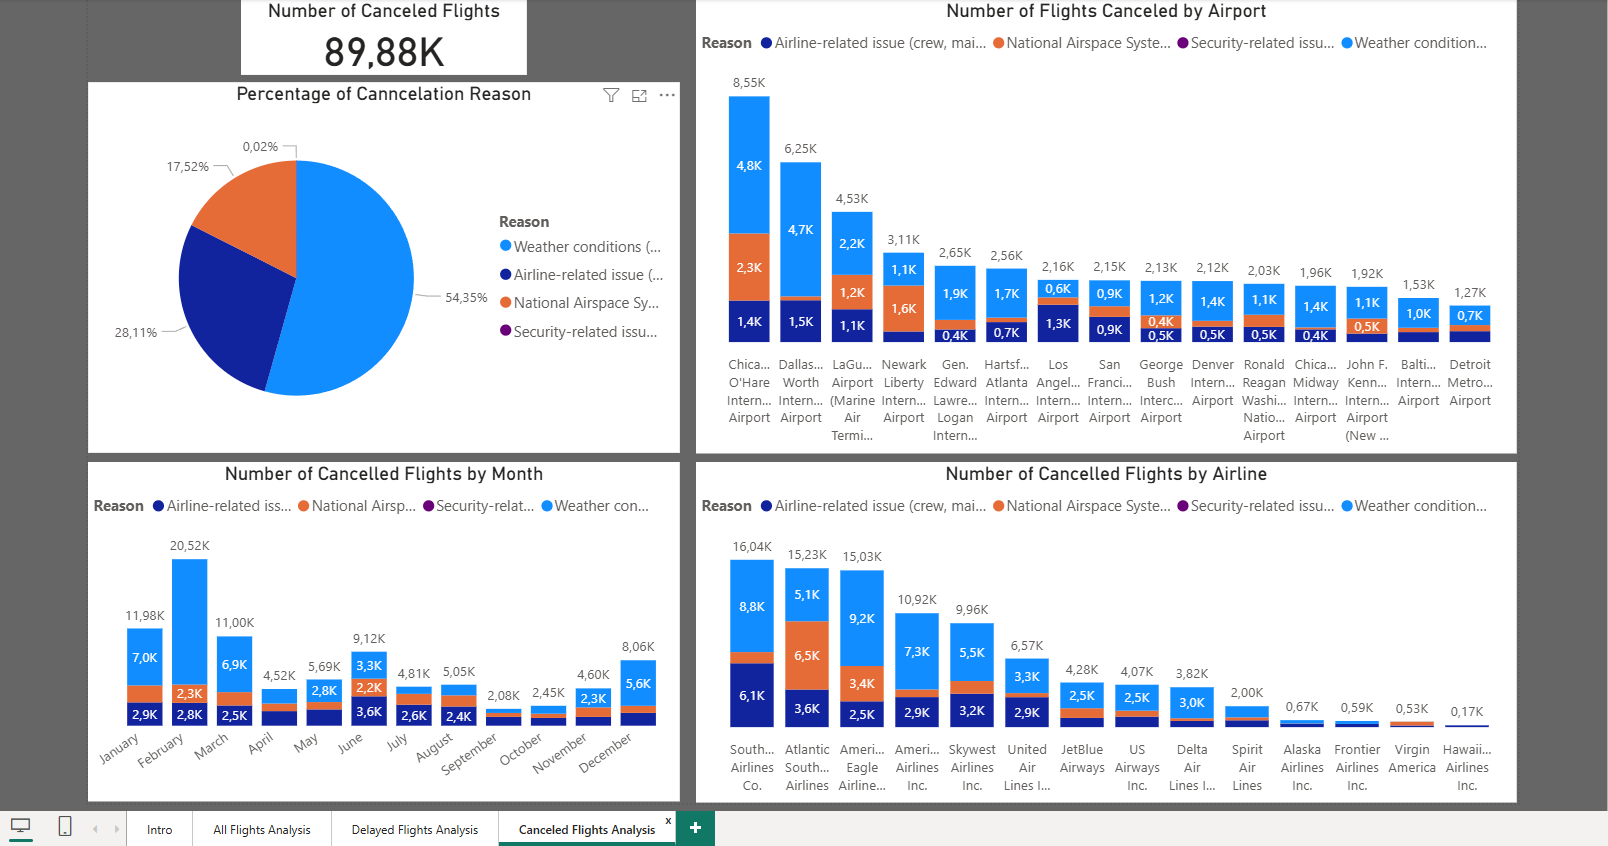

The page's visual inventory and layout, read from the dashboard file:
{"tool":"powerbi","page":{"name":"Canceled Flights Analysis","canvas":[1280,720],"ordinal":3},"visuals":[{"type":"columnChart","title":"Number of Flights Canceled by Airport","fields":{"Y":["CountNonNull(flights.FLIGHT_NUMBER)"],"Category":["airports.AIRPORT"],"Series":["codes_category.description"]},"box":[544.5,0,735.2,406.6],"z":0},{"type":"columnChart","title":"Number of Cancelled Flights by Month","fields":{"Y":["CountNonNull(flights.FLIGHT_NUMBER)"],"Category":["months.month_name.Variation.Date Hierarchy.Year","months.month_name.Variation.Date Hierarchy.Quarter","months.month_name.Variation.Date Hierarchy.Month","months.month_name.Variation.Date Hierarchy.Day"],"Series":["codes_category.Reason"]},"box":[0,414.6,530.1,304.5],"z":1000},{"type":"pieChart","title":"Percentage of Canncelation Reason ","fields":{"Category":["codes_category.description"],"Y":["CountNonNull(flights.FLIGHT_NUMBER)"]},"box":[0,74.3,530.1,332.2],"z":2000},{"type":"card","title":"Number of Canceled Flights","fields":{"Values":["CountNonNull(flights.FLIGHT_NUMBER)"]},"box":[137.3,0,256.2,68.1],"z":3000},{"type":"columnChart","title":"Number of Cancelled Flights by Airline","fields":{"Category":["airlines.AIRLINE"],"Y":["CountNonNull(flights.FLIGHT_NUMBER)"],"Series":["codes_category.Reason"]},"box":[544.8,414.2,735.2,304.8],"z":4000}]}

Visuals, with their boxes in screenshot pixels (x1, y1, x2, y2):
"Number of Flights Canceled by Airport" columnChart: {"left": 692, "top": 0, "right": 1514, "bottom": 450}
"Number of Cancelled Flights by Month" columnChart: {"left": 84, "top": 459, "right": 676, "bottom": 799}
"Percentage of Canncelation Reason " pieChart: {"left": 84, "top": 79, "right": 676, "bottom": 450}
"Number of Canceled Flights" card: {"left": 237, "top": 0, "right": 523, "bottom": 72}
"Number of Cancelled Flights by Airline" columnChart: {"left": 693, "top": 459, "right": 1514, "bottom": 799}
